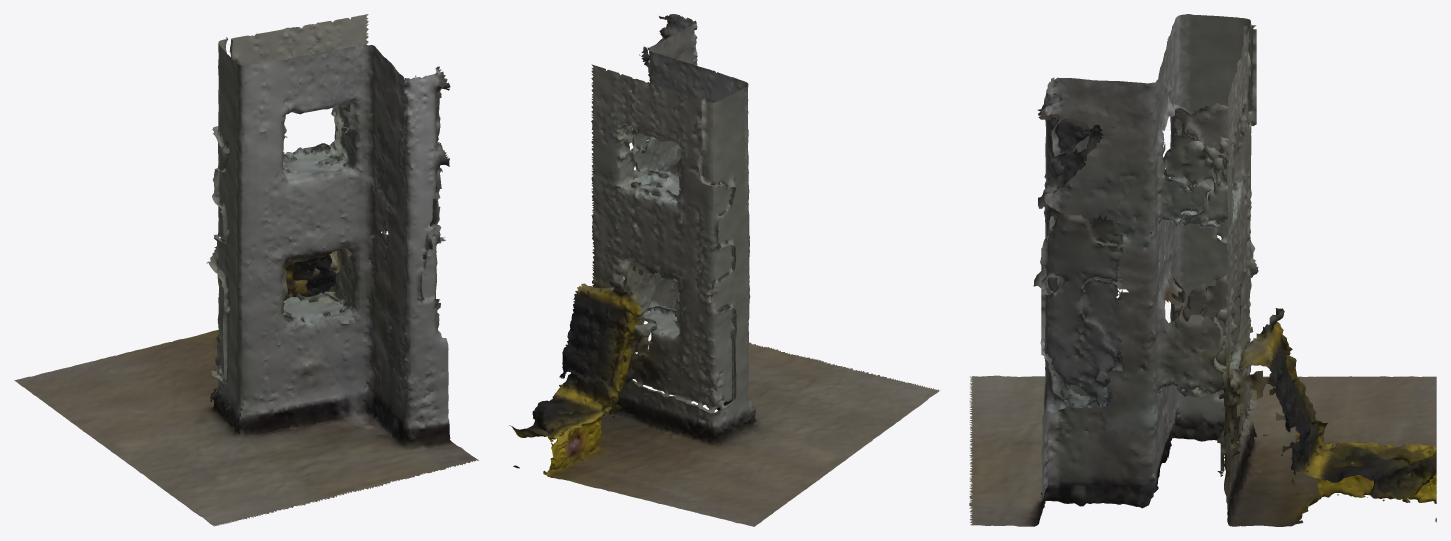
The model's file is fine.glb.
3 renders of one model, left to right at view 1: azimuth 30°, elevation 25°; view 2: azimuth 150°, elevation 25°; view 3: azimuth 270°, elevation 25°, orthographic. The views are drawn at different scales.
Size of the model in its own units: 0.9672 by 1.29 by 1.27.
